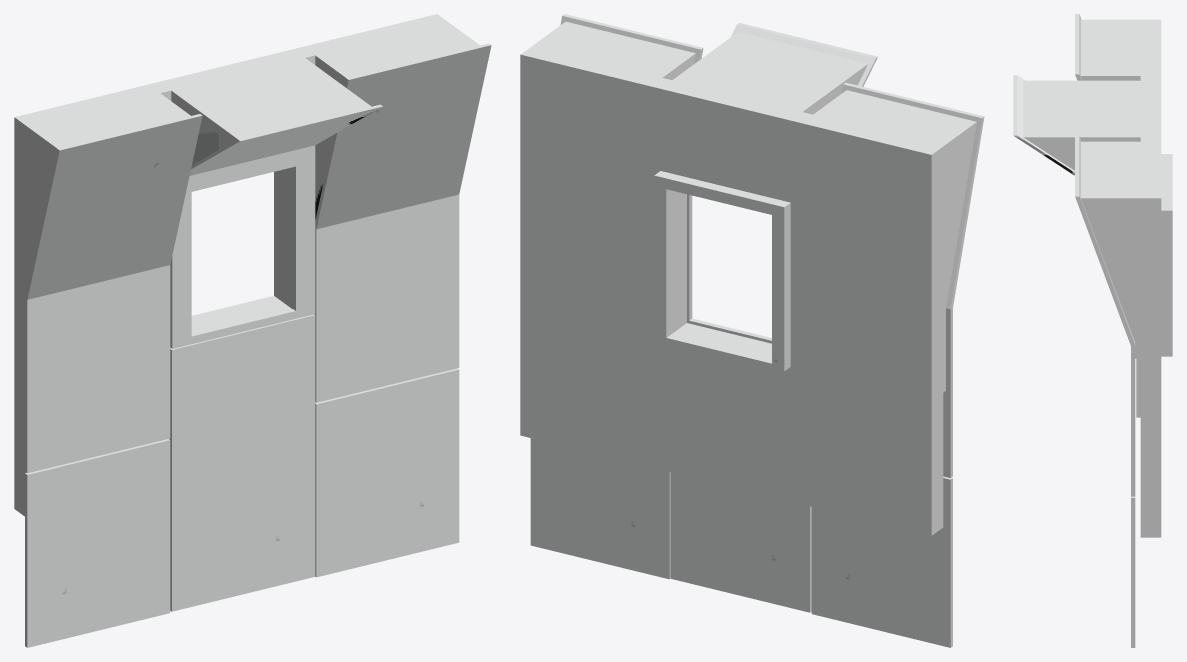
File: 3X Door.FBX
The picture shows the model from 3 angles, left to right: view 1: azimuth 30°, elevation 25°; view 2: azimuth 150°, elevation 25°; view 3: azimuth 270°, elevation 25°; orthographic projection. The views are drawn at different scales.
Visible parts, largest first — view 1: Object043; view 2: Object043; view 3: Object043.
Boxes of the visible parts, box(x1,y1,x2,y2) form: Object043: box(14, 14, 491, 647); Object043: box(520, 14, 984, 647); Object043: box(1013, 14, 1172, 647).
Bounding box in the file's own units: 17.31 × 19.96 × 6.39.
